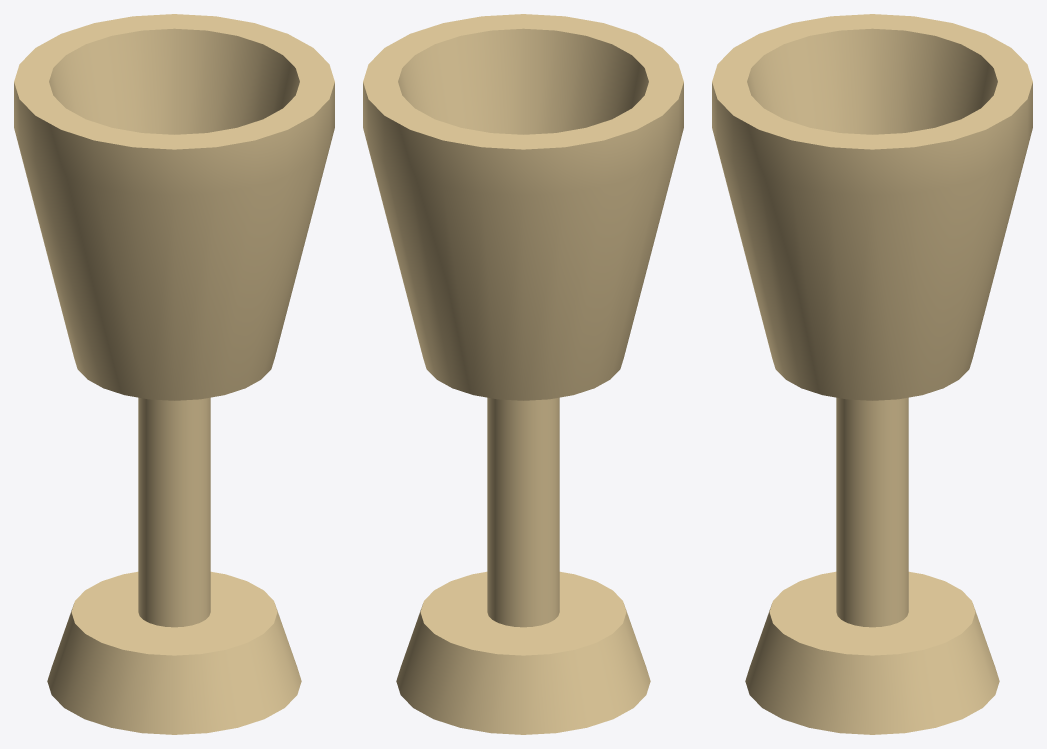
File: detailChalice.glb
The picture shows the model from 3 angles, left to right: view 1: azimuth 30°, elevation 25°; view 2: azimuth 150°, elevation 25°; view 3: azimuth 270°, elevation 25°; orthographic projection.
Parts seen in each view (by area): view 1: detailChalice; view 2: detailChalice; view 3: detailChalice.
Boxes of the visible parts, x1,y1,x2,y2 form: detailChalice: [14, 14, 334, 734]; detailChalice: [363, 14, 683, 734]; detailChalice: [712, 14, 1032, 734].
Bounding box in the file's own units: 0.0968 × 0.1995 × 0.0968.
